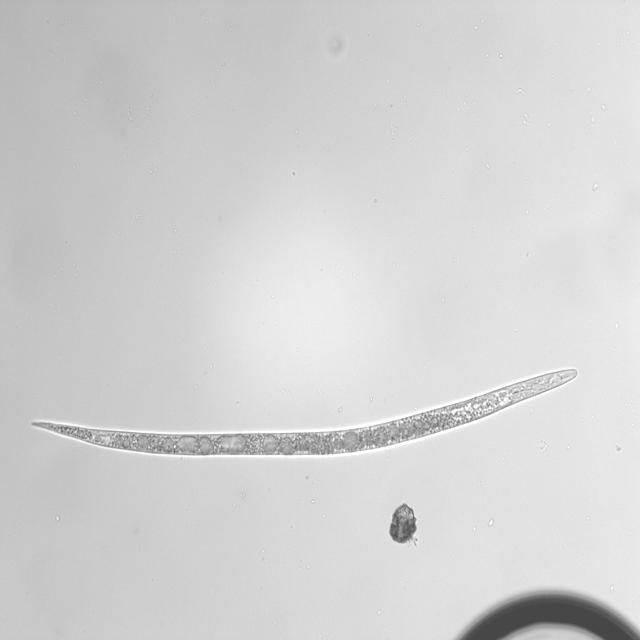Meloidogyne: (29, 361, 590, 462)
